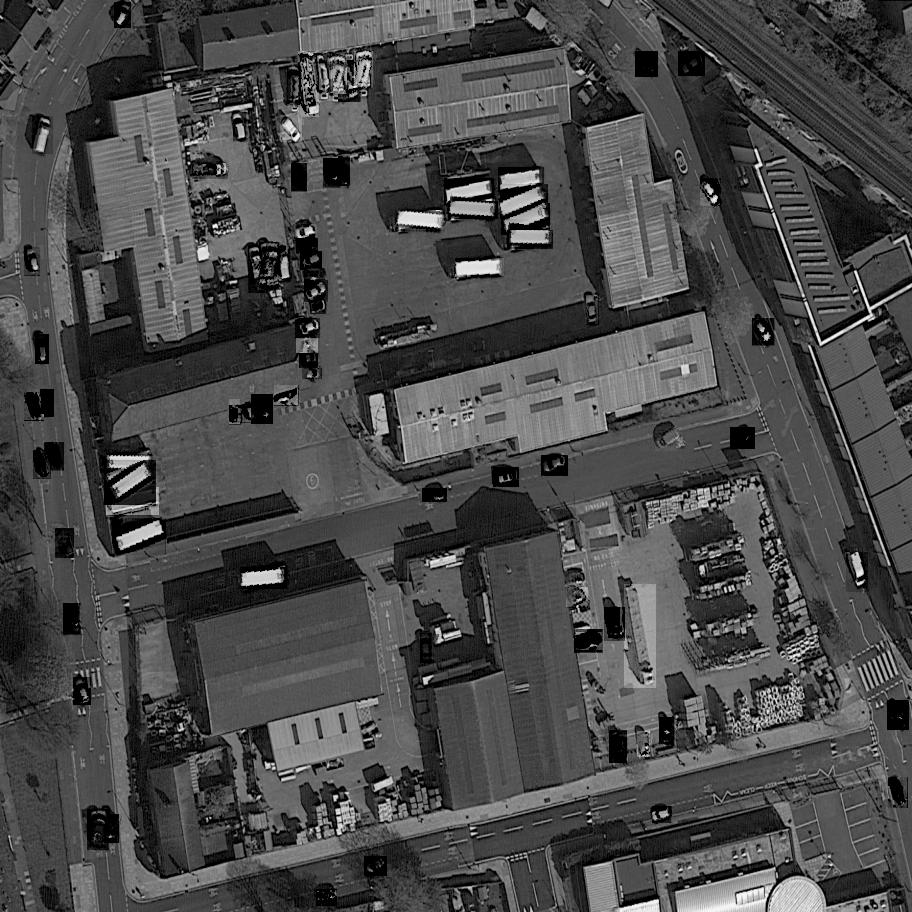large-vehicle: (624, 584, 657, 689), (103, 460, 158, 506), (111, 518, 168, 555), (498, 185, 549, 220), (106, 488, 162, 517), (502, 203, 552, 235), (298, 52, 320, 118), (444, 178, 495, 206), (498, 167, 547, 192), (87, 808, 111, 853), (396, 210, 445, 232), (240, 567, 288, 589), (845, 553, 872, 592), (338, 61, 363, 103), (247, 245, 268, 293), (325, 54, 348, 96), (448, 201, 498, 220), (101, 454, 151, 473), (260, 242, 279, 290), (456, 258, 504, 276), (32, 117, 54, 156), (314, 53, 335, 93), (508, 230, 553, 248), (278, 115, 304, 143), (354, 51, 373, 89), (287, 67, 300, 105), (193, 165, 227, 178)
small-vehicle: (677, 51, 708, 76), (605, 607, 627, 641), (632, 51, 660, 77), (655, 427, 684, 452), (574, 629, 604, 653), (752, 319, 777, 347), (887, 701, 911, 730), (699, 178, 723, 207), (888, 777, 910, 808), (609, 730, 629, 764), (251, 395, 274, 424), (24, 393, 45, 422), (44, 443, 65, 472), (541, 456, 570, 477), (63, 604, 82, 636), (730, 427, 756, 450), (323, 158, 342, 189), (274, 386, 302, 407), (304, 281, 330, 303), (295, 318, 322, 339), (492, 468, 520, 488), (575, 632, 603, 652), (56, 528, 74, 559), (72, 677, 91, 706), (33, 451, 52, 479), (567, 588, 591, 610), (291, 163, 308, 193), (299, 251, 323, 272), (296, 332, 320, 353), (363, 856, 388, 876), (23, 247, 40, 276), (233, 112, 249, 142), (276, 246, 290, 280), (113, 3, 132, 28), (292, 224, 318, 242), (104, 814, 120, 843), (35, 334, 50, 364), (586, 295, 601, 325), (240, 398, 257, 424), (660, 717, 675, 745), (295, 238, 319, 255), (40, 389, 54, 418), (422, 488, 447, 504), (637, 731, 652, 757), (315, 890, 339, 906), (493, 470, 518, 485), (652, 807, 674, 824), (608, 608, 620, 638), (565, 571, 588, 586), (339, 155, 350, 186), (309, 299, 329, 315), (421, 633, 431, 663), (299, 355, 319, 368), (304, 269, 325, 281), (230, 400, 240, 424), (302, 368, 321, 379)
